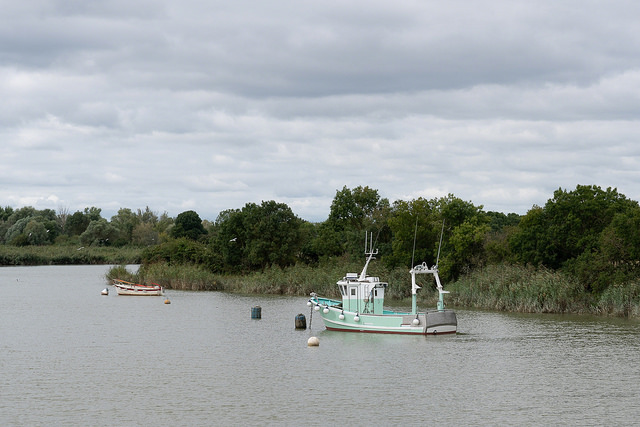boat: (107, 272, 171, 301)
fishing_boat: (308, 240, 463, 336)
